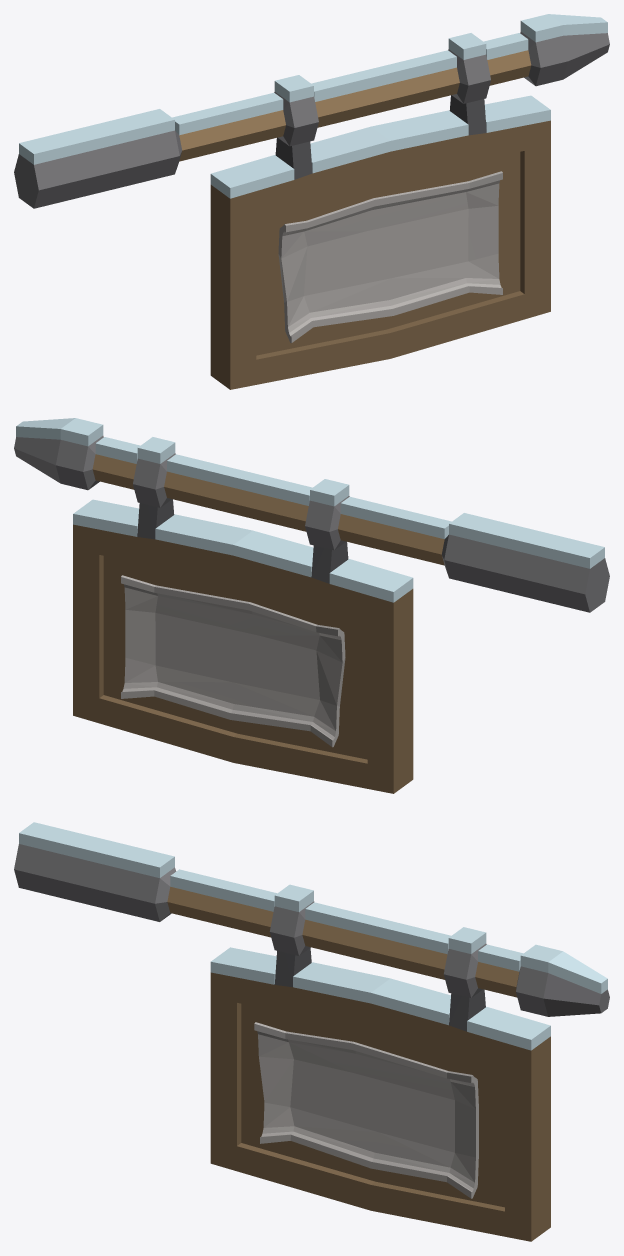
The model's file is SM_Prop_ShopSign_01_Snow.gltf.
3 views of the same model, one above another, from view 1: azimuth 30°, elevation 25°; view 2: azimuth 150°, elevation 25°; view 3: azimuth 330°, elevation 25° (orthographic).
Visible parts, largest first — view 1: SM_Prop_ShopSign_01_Snow; view 2: SM_Prop_ShopSign_01_Snow; view 3: SM_Prop_ShopSign_01_Snow.
Part boxes in pixels (<box>): SM_Prop_ShopSign_01_Snow: <box>14,14,609,389</box>; SM_Prop_ShopSign_01_Snow: <box>14,418,609,793</box>; SM_Prop_ShopSign_01_Snow: <box>14,822,609,1241</box>.
Bounding box in the file's own units: 1.9 × 0.9086 × 0.1803.
Materials: 1 (1 with a texture image).
